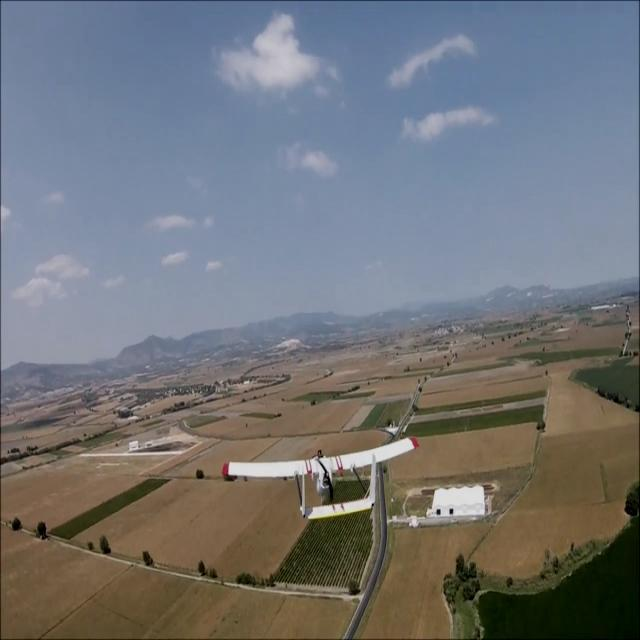iha: (215, 423, 426, 556)
